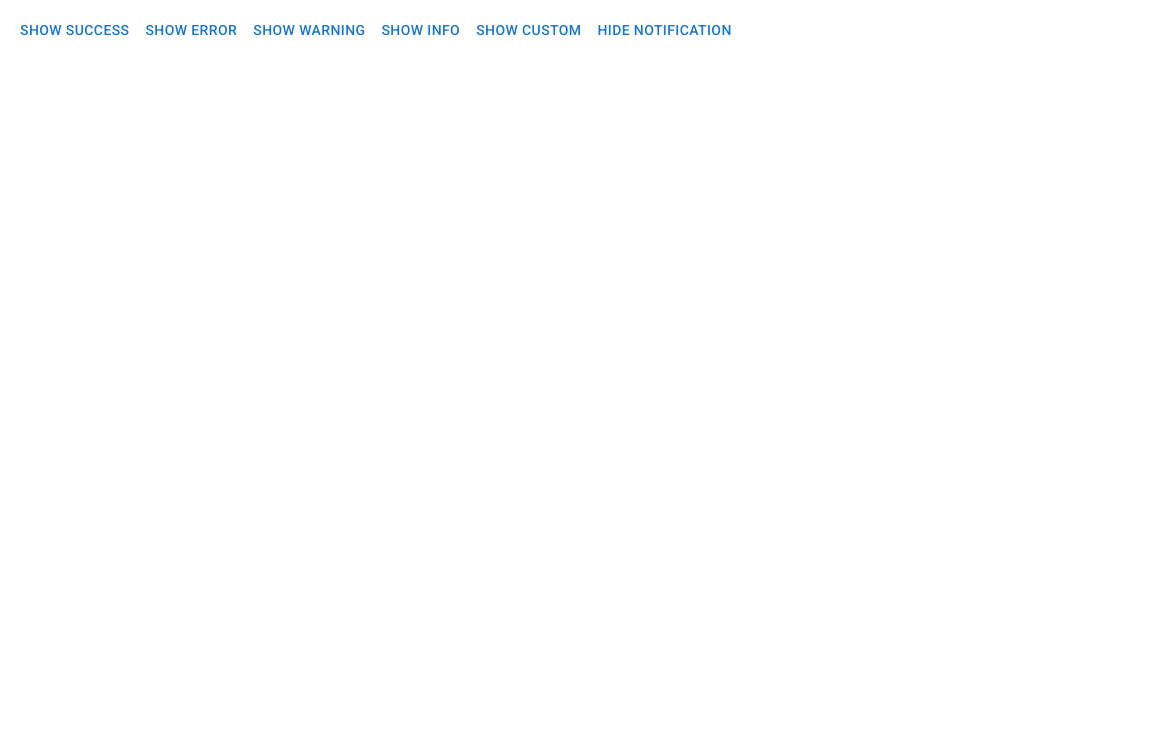
NotificationContext › should close notification when close button is clicked
The image size is (1164, 732).
Click the button "Show Success".
click(75, 30)  # box [12,12,137,48]
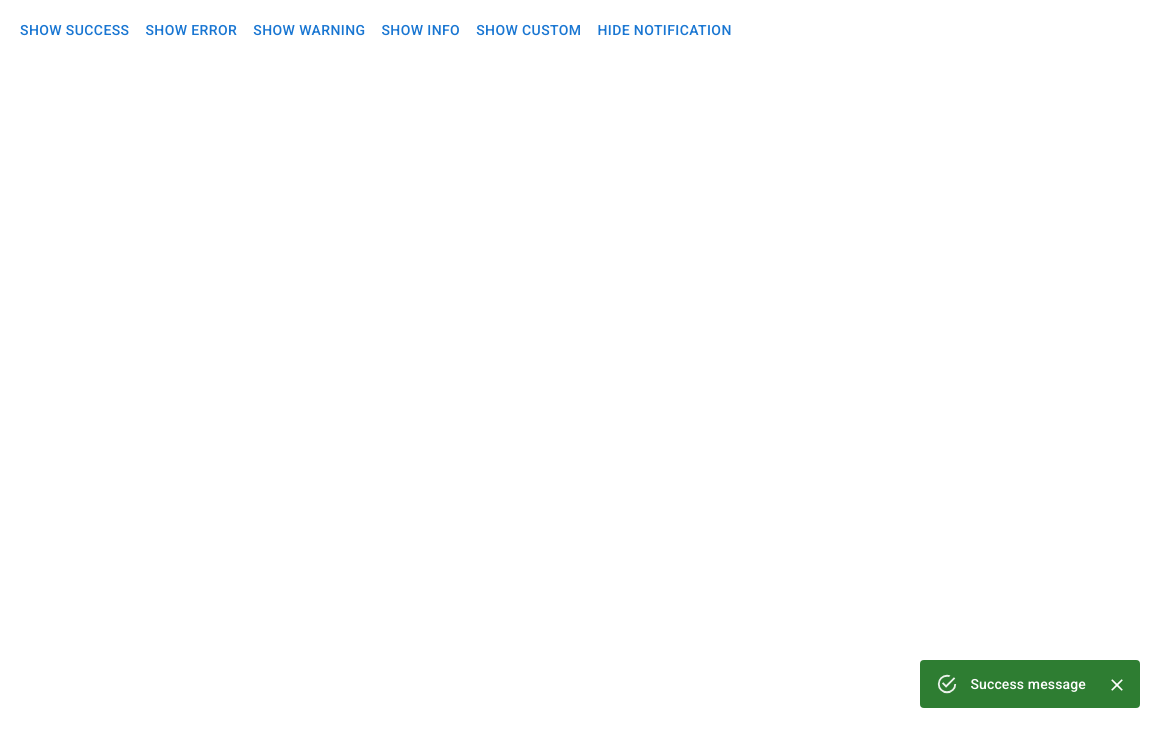
Check: the text "Success message" is shown, box [970,676,1086,692]
Click the close button
Click the button named "Close".
click(1117, 685)  # box [1102,670,1132,700]
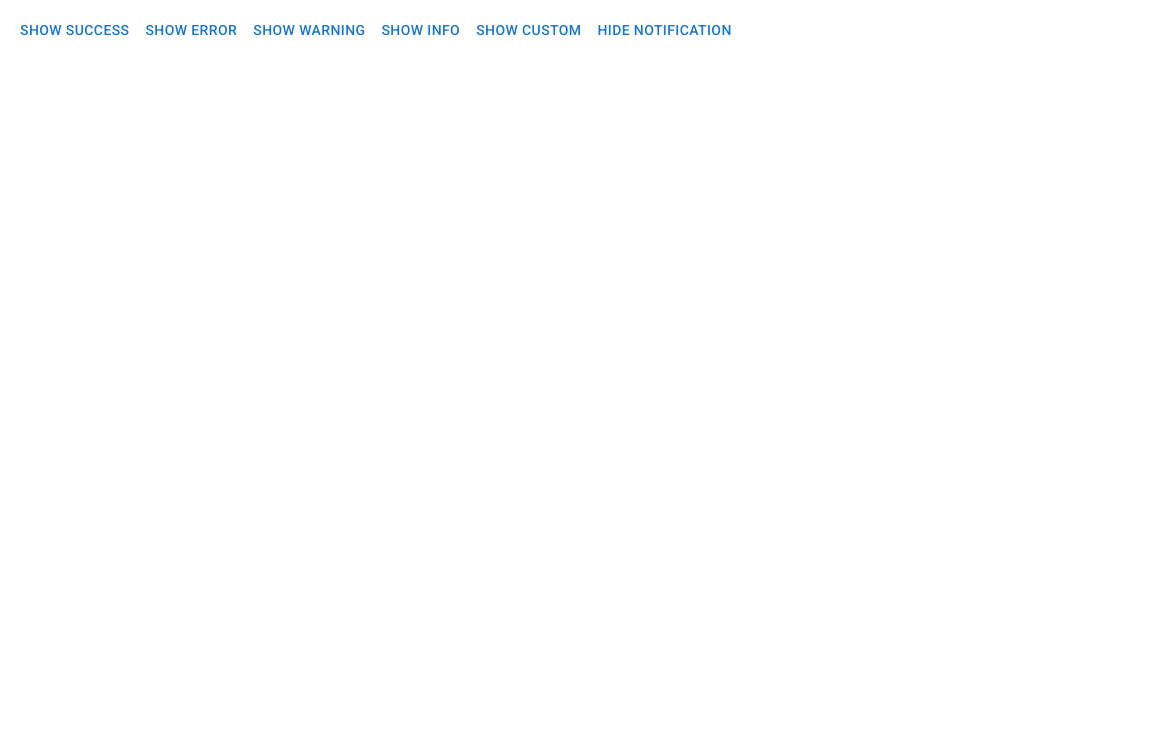
Check: the text "Success message" is gone
